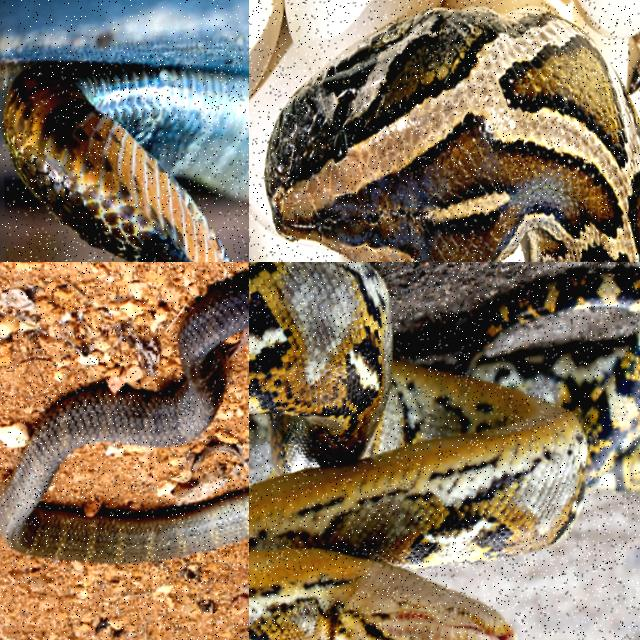Malayopython reticulatus: (249, 262, 639, 639)
Ophiophagus hannah: (0, 273, 248, 562), (3, 63, 248, 261)
Python bivittatus: (266, 8, 639, 261)
snake: (249, 262, 639, 639), (266, 8, 639, 261), (0, 273, 248, 562), (3, 63, 248, 261)
